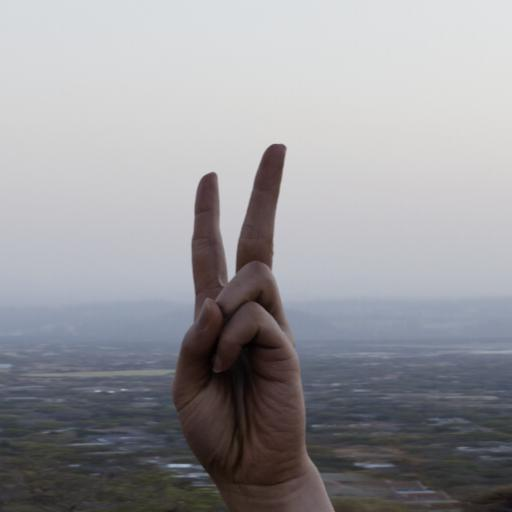V: (164, 138, 338, 507)
